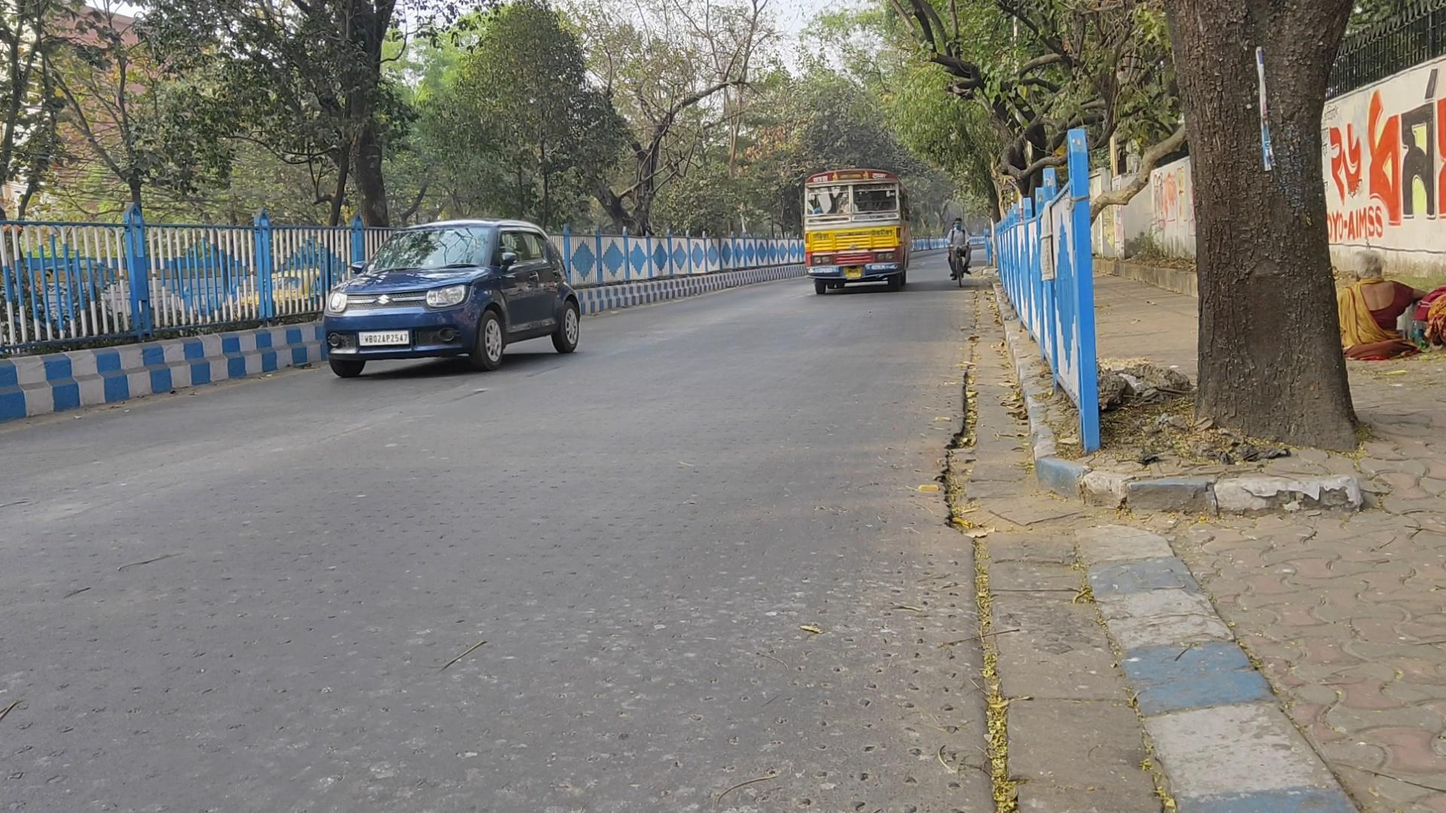Bus: (803, 168, 912, 297)
bike: (947, 216, 973, 286)
car: (323, 218, 581, 379)
